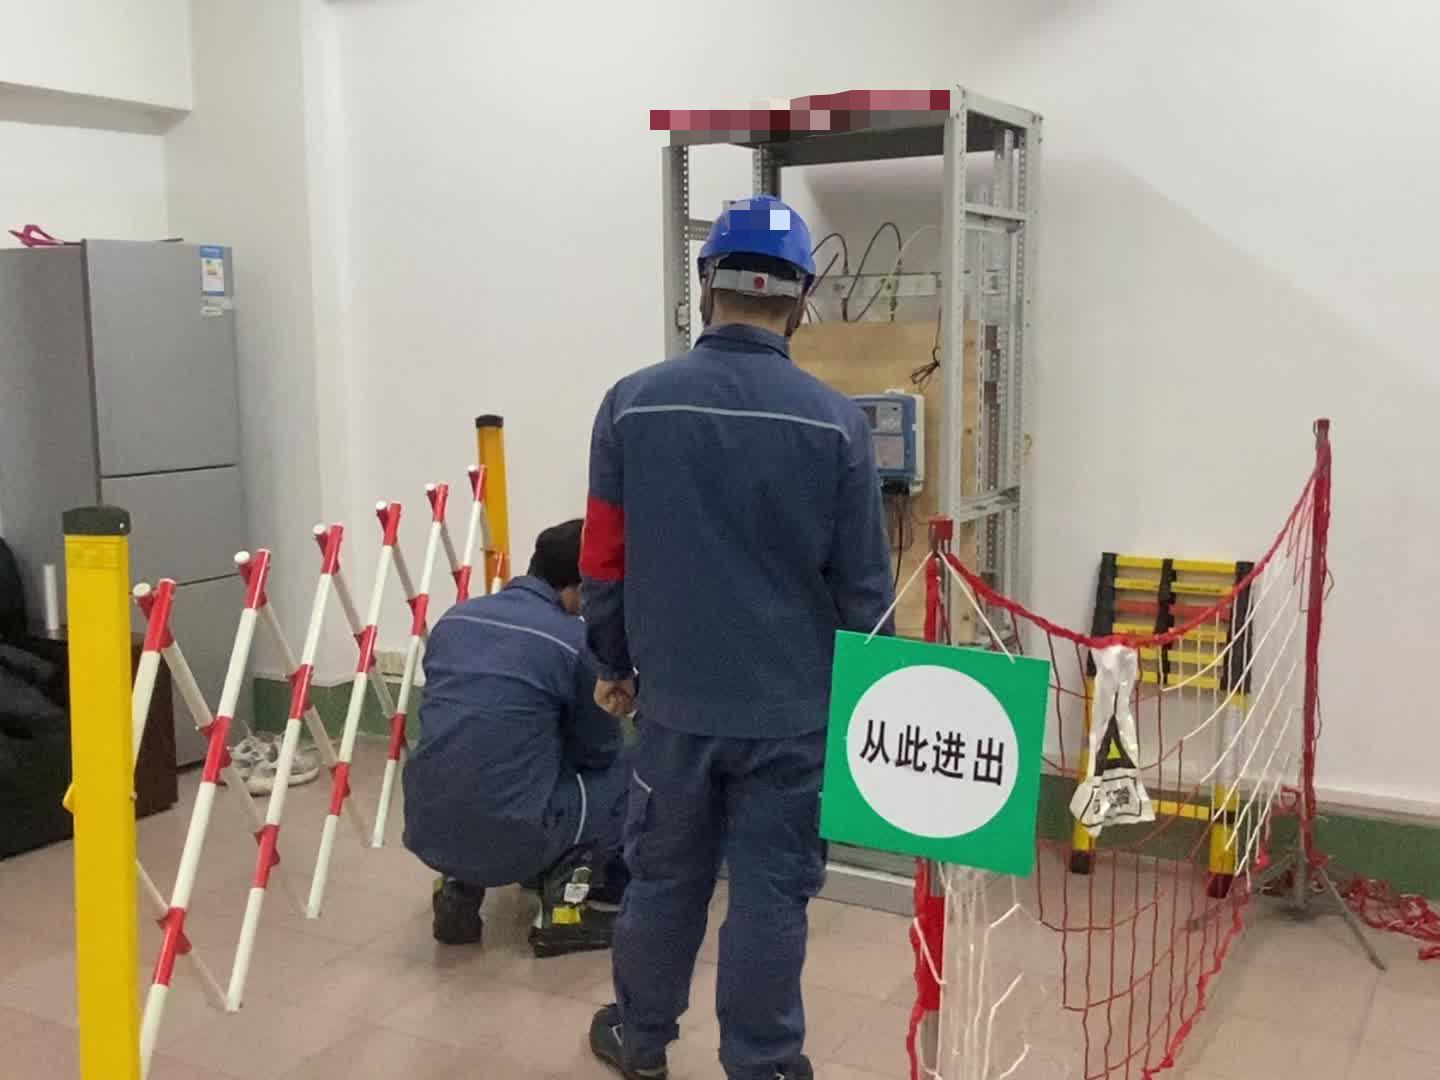halt: (696, 194, 823, 341)
unhalt: (530, 524, 588, 605)
